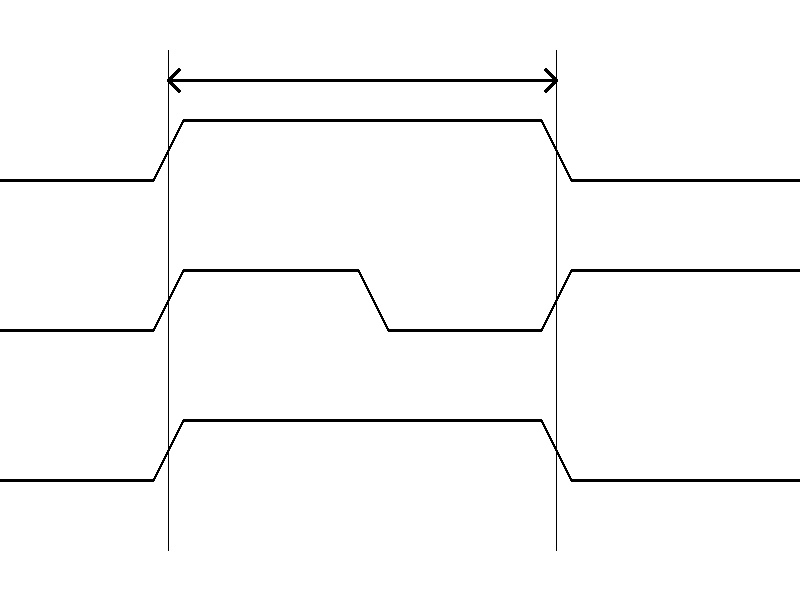double_arrow: (168, 65, 556, 95)
